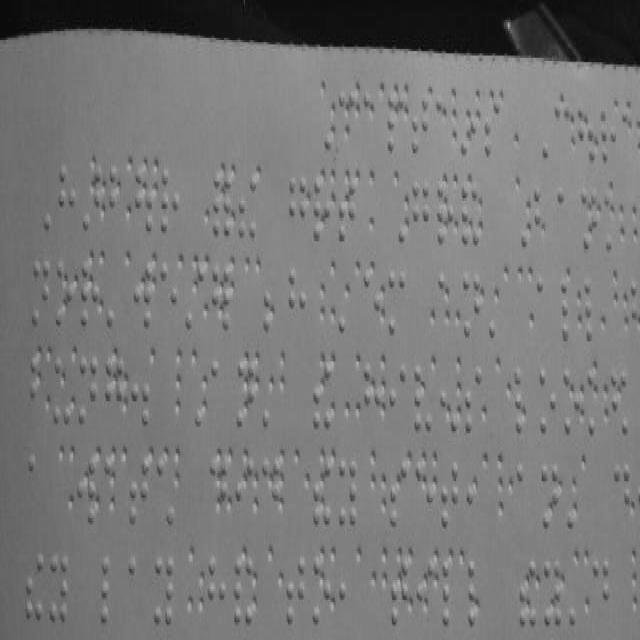braiile: (152, 549, 174, 629), (56, 159, 78, 237), (99, 551, 121, 627), (161, 165, 181, 239), (49, 550, 69, 624), (286, 263, 308, 328), (440, 458, 460, 529), (582, 274, 602, 344), (286, 554, 306, 624), (338, 457, 357, 530), (410, 90, 430, 159), (208, 548, 226, 624), (28, 446, 48, 514), (463, 367, 482, 438), (538, 363, 556, 437), (442, 558, 460, 629), (412, 182, 431, 249), (126, 556, 144, 626), (592, 556, 610, 626), (389, 361, 407, 430), (515, 460, 535, 522), (288, 173, 306, 240), (388, 271, 406, 338), (482, 99, 502, 159), (555, 187, 575, 244), (552, 102, 570, 164), (600, 107, 618, 169), (536, 274, 554, 336), (561, 278, 577, 344), (160, 260, 177, 322), (614, 461, 630, 526)
